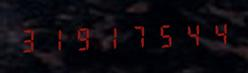five: (152, 19, 178, 51)
four: (179, 18, 205, 50), (206, 17, 232, 49)
nine: (71, 21, 97, 53)
one: (44, 22, 70, 54), (98, 20, 124, 52)
seven: (125, 19, 151, 52)
three: (17, 23, 43, 55)
